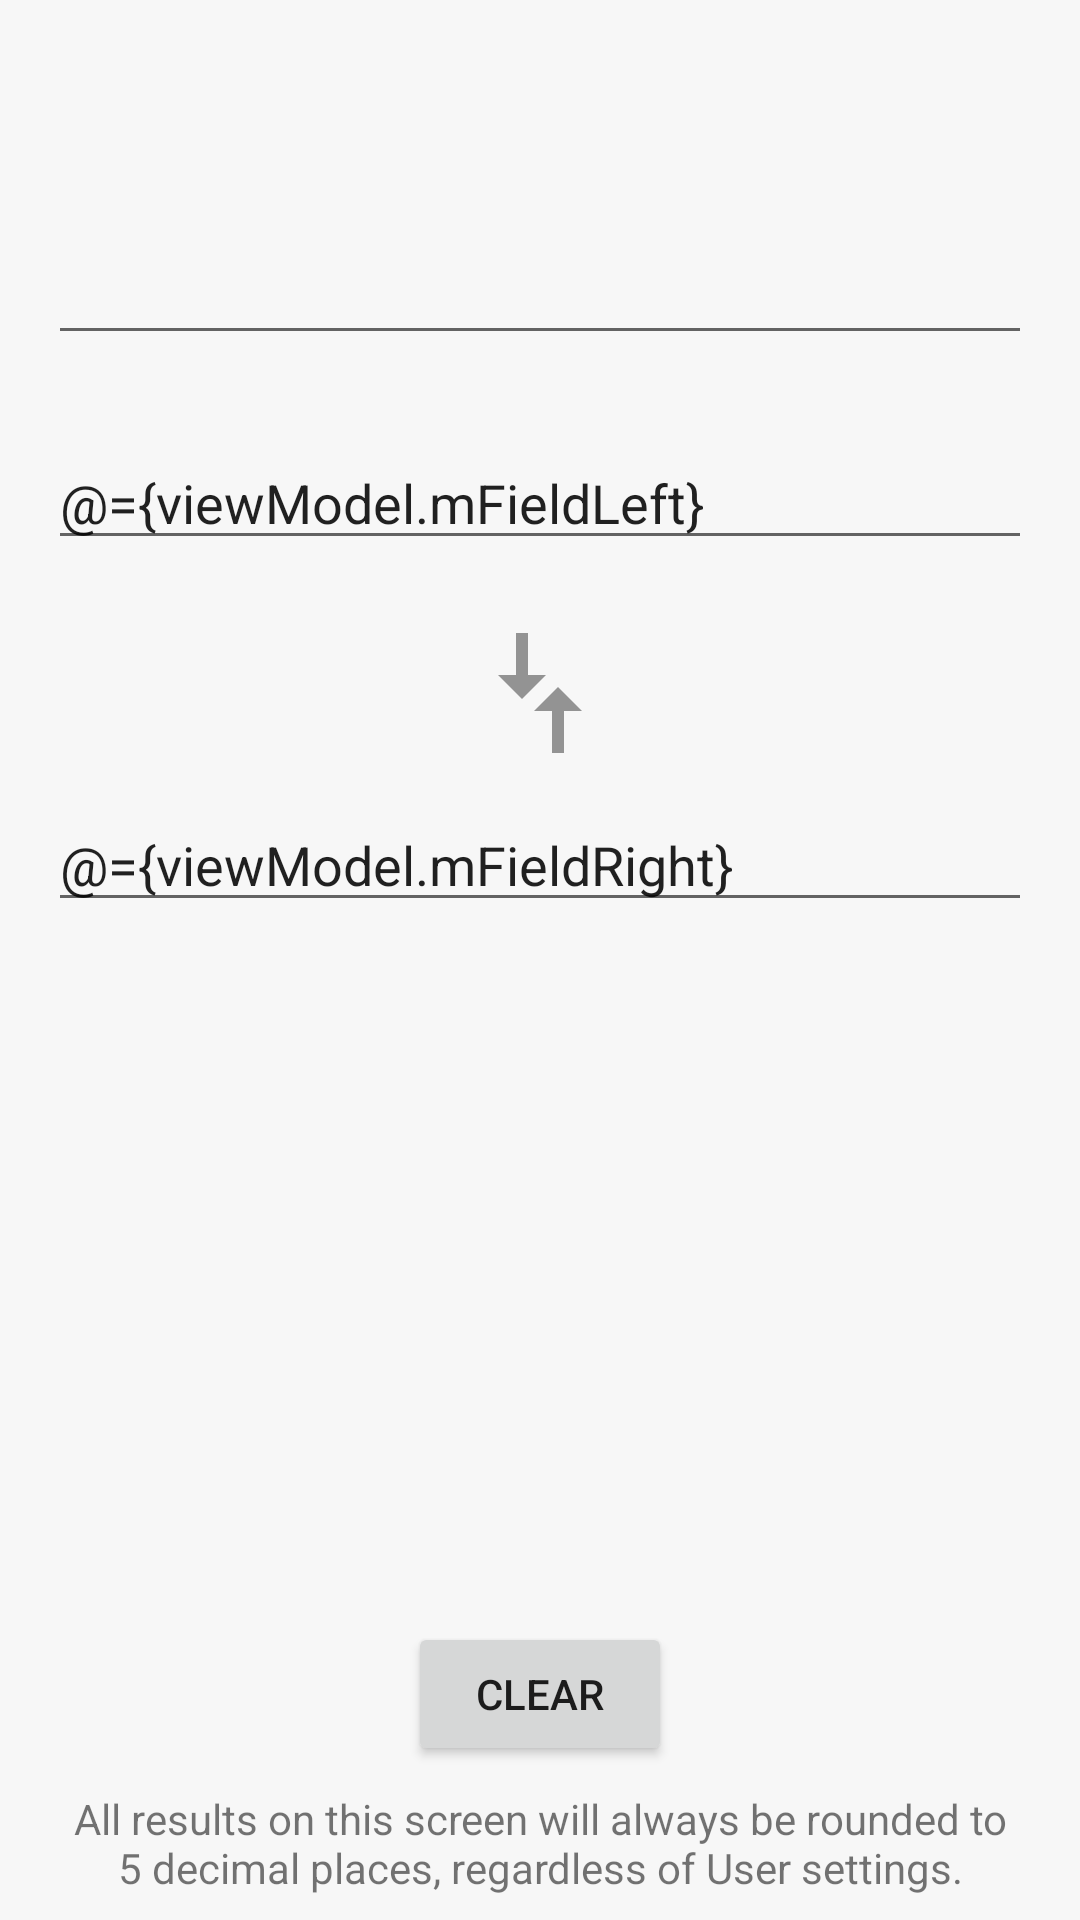

Screen size 1080 × 1920. Icon name, then its center in pixels as (x=x, y=y):
compare arrows: (x=540, y=693)
